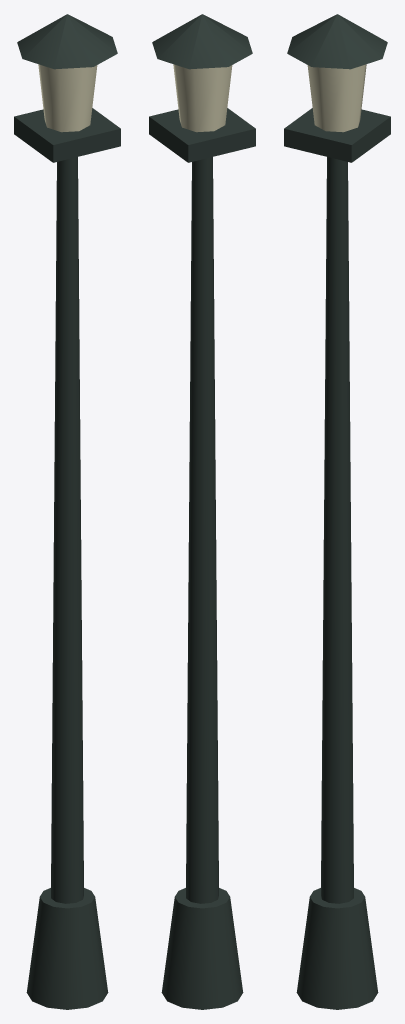
3 views of the same model, side by side, from view 1: azimuth 30°, elevation 25°; view 2: azimuth 210°, elevation 25°; view 3: azimuth 330°, elevation 25° (orthographic).
Parts seen in each view (by area): view 1: Tapered shaft / surface 1, Fluted base / surface 1, Lantern cap / surface 1, Lantern diffuser / surface 1, Lantern frame / surface 3, Lantern frame / surface 5, Lantern frame / surface 2, Fluted base / surface 2; view 2: Tapered shaft / surface 1, Fluted base / surface 1, Lantern cap / surface 1, Lantern diffuser / surface 1, Lantern frame / surface 3, Lantern frame / surface 6, Lantern frame / surface 1, Fluted base / surface 2; view 3: Tapered shaft / surface 1, Fluted base / surface 1, Lantern cap / surface 1, Lantern diffuser / surface 1, Lantern frame / surface 3, Lantern frame / surface 5, Lantern frame / surface 1, Fluted base / surface 2.
Part boxes in pixels (x1,y1,x2,y2): Tapered shaft / surface 1: (51,157,83,903); Fluted base / surface 1: (26,897,108,1009); Lantern cap / surface 1: (17,14,117,69); Lantern diffuser / surface 1: (38,64,97,132); Lantern frame / surface 3: (14,108,120,144); Lantern frame / surface 5: (53,128,120,162); Lantern frame / surface 2: (14,117,53,162); Fluted base / surface 2: (40,888,94,908); Tapered shaft / surface 1: (186,157,218,903); Fluted base / surface 1: (161,897,243,1009); Lantern cap / surface 1: (152,14,252,69); Lantern diffuser / surface 1: (173,64,232,132); Lantern frame / surface 3: (149,108,255,144); Lantern frame / surface 6: (188,128,255,162); Lantern frame / surface 1: (149,117,188,162); Fluted base / surface 2: (175,888,229,908); Tapered shaft / surface 1: (321,157,353,903); Fluted base / surface 1: (296,897,378,1009); Lantern cap / surface 1: (287,14,387,69); Lantern diffuser / surface 1: (307,64,366,132); Lantern frame / surface 3: (284,108,390,144); Lantern frame / surface 5: (284,128,351,162); Lantern frame / surface 1: (351,117,390,162); Fluted base / surface 2: (310,888,364,908).
Size of the model in its own units: 0.64 by 6.62 by 0.64.
